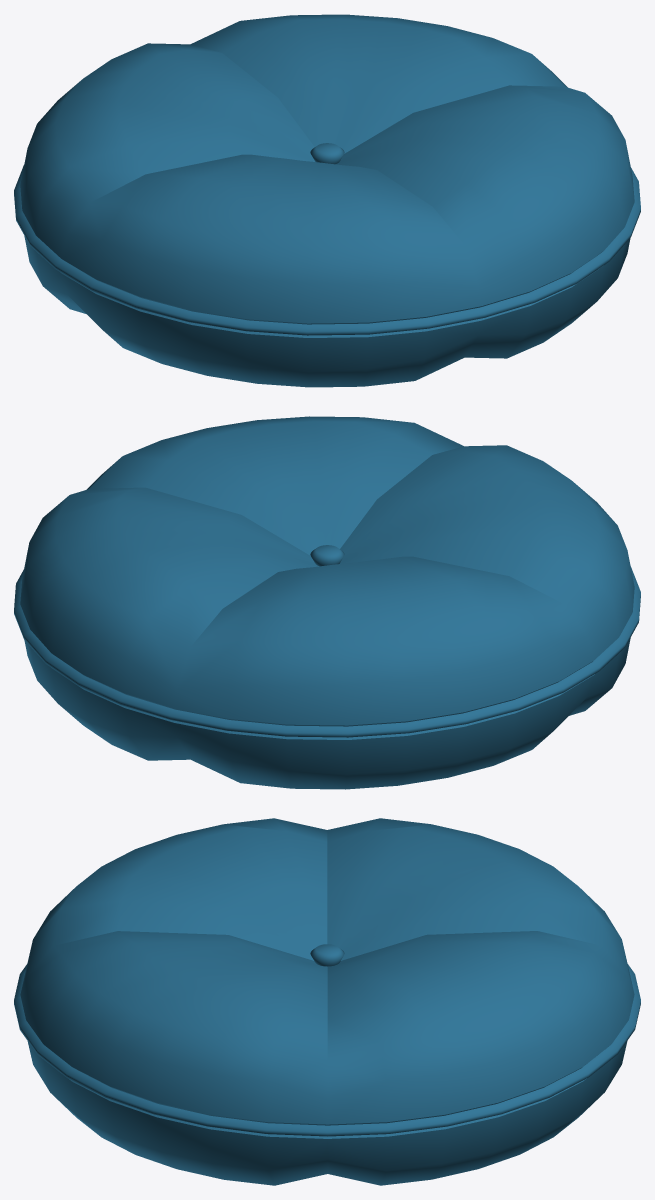
Rendered from (Prop)Round-Pillow.fbx.
3 views of the same model, one above another, from view 1: azimuth 30°, elevation 25°; view 2: azimuth 150°, elevation 25°; view 3: azimuth 270°, elevation 25° (orthographic).
Visible parts, largest first — view 1: Circular Pillow; view 2: Circular Pillow; view 3: Circular Pillow.
Part boxes in pixels (x1,y1,x2,y2): Circular Pillow: (14,14,640,387); Circular Pillow: (14,416,640,789); Circular Pillow: (14,818,640,1185).
Size of the model in its own units: 40.67 by 13.28 by 40.67.
